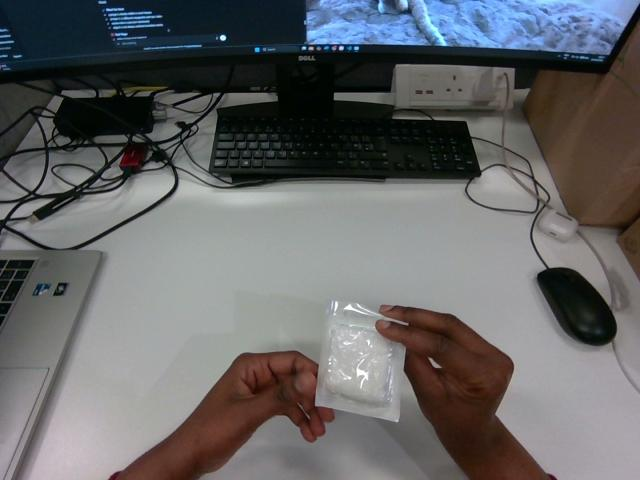gauze: (316, 301, 404, 420)
